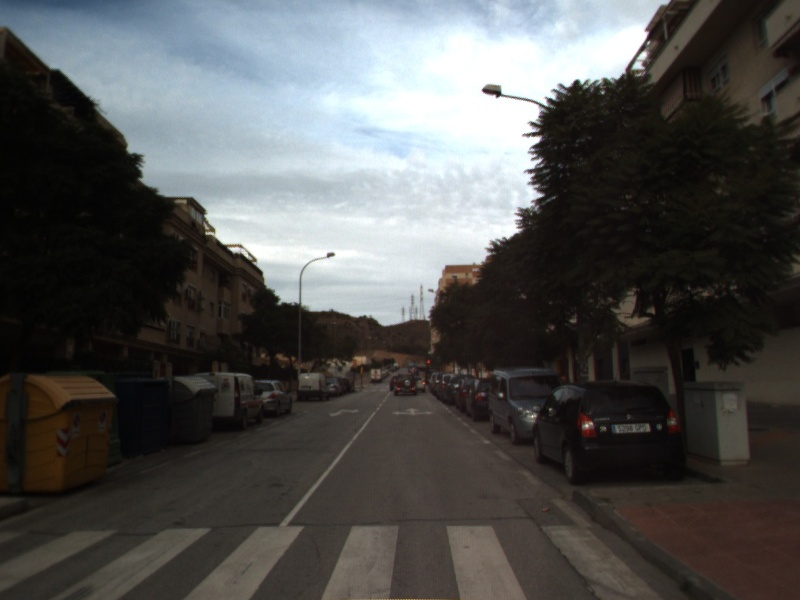STRAIGHT_LEFT_RIGHT: (391, 405, 435, 417)
